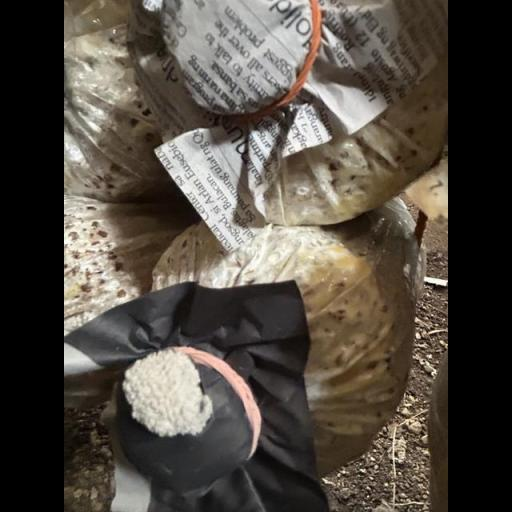White Oyster Mushroom: (119, 348, 217, 442)
